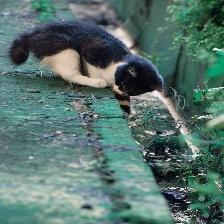kedo: (9, 21, 162, 116)
